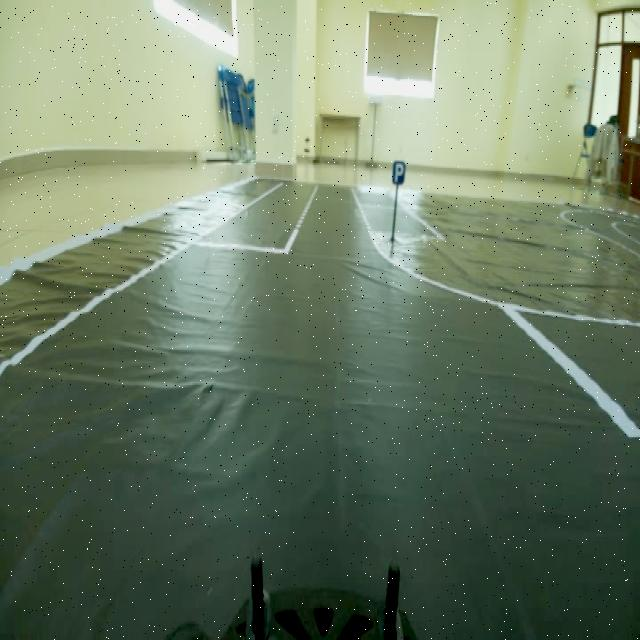parking: (389, 150, 409, 195)
